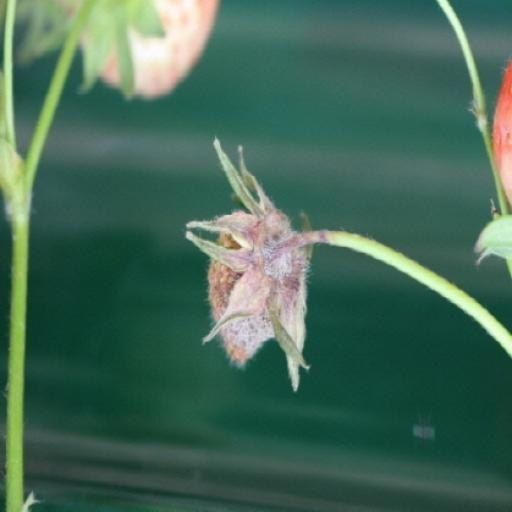Gray Mold: (184, 120, 331, 374)
